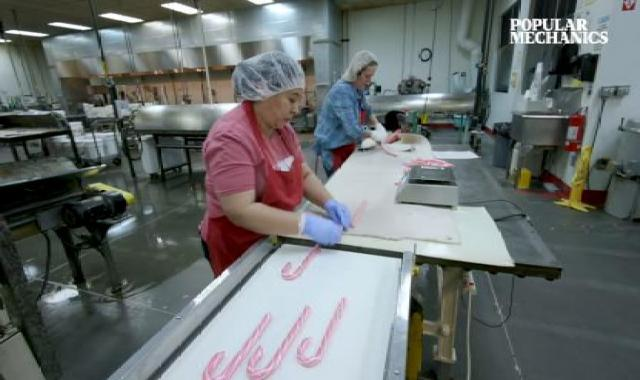hairnet: (233, 50, 316, 102), (340, 49, 381, 89)
